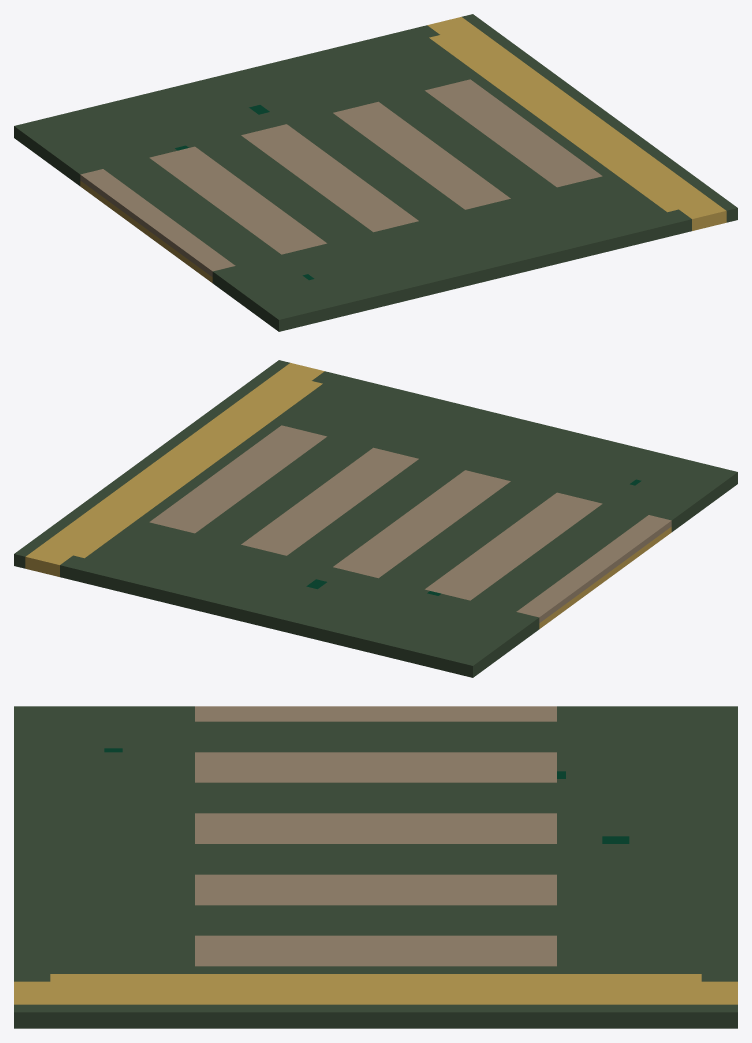
File: cars_crossing_b.glb
3 views of the same model, one above another, from view 1: azimuth 30°, elevation 25°; view 2: azimuth 150°, elevation 25°; view 3: azimuth 270°, elevation 25° (orthographic). The views are drawn at different scales.
Visible parts, largest first — view 1: cars_crossing_b; view 2: cars_crossing_b; view 3: cars_crossing_b.
Boxes of the visible parts, x1=… form: cars_crossing_b: x1=14, y1=14, x2=737, y2=331; cars_crossing_b: x1=14, y1=360, x2=737, y2=677; cars_crossing_b: x1=14, y1=706, x2=737, y2=1028.
Bounding box in the file's own units: 4 × 0.1 × 4.
Materials: 1 (1 with a texture image).
